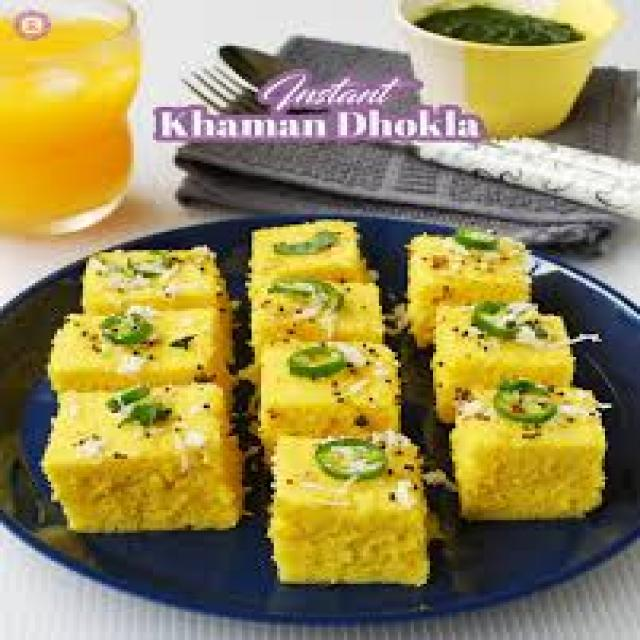DHOKLA: (43, 391, 243, 533), (265, 439, 425, 583), (38, 309, 231, 411), (458, 385, 610, 512), (425, 294, 577, 410), (82, 245, 234, 347), (257, 338, 403, 444), (403, 242, 533, 346), (258, 218, 375, 301)
